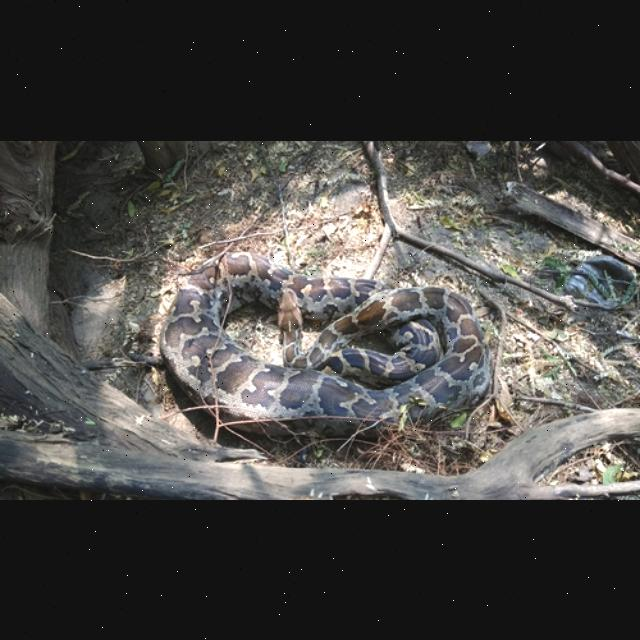snake: (156, 244, 499, 438)
